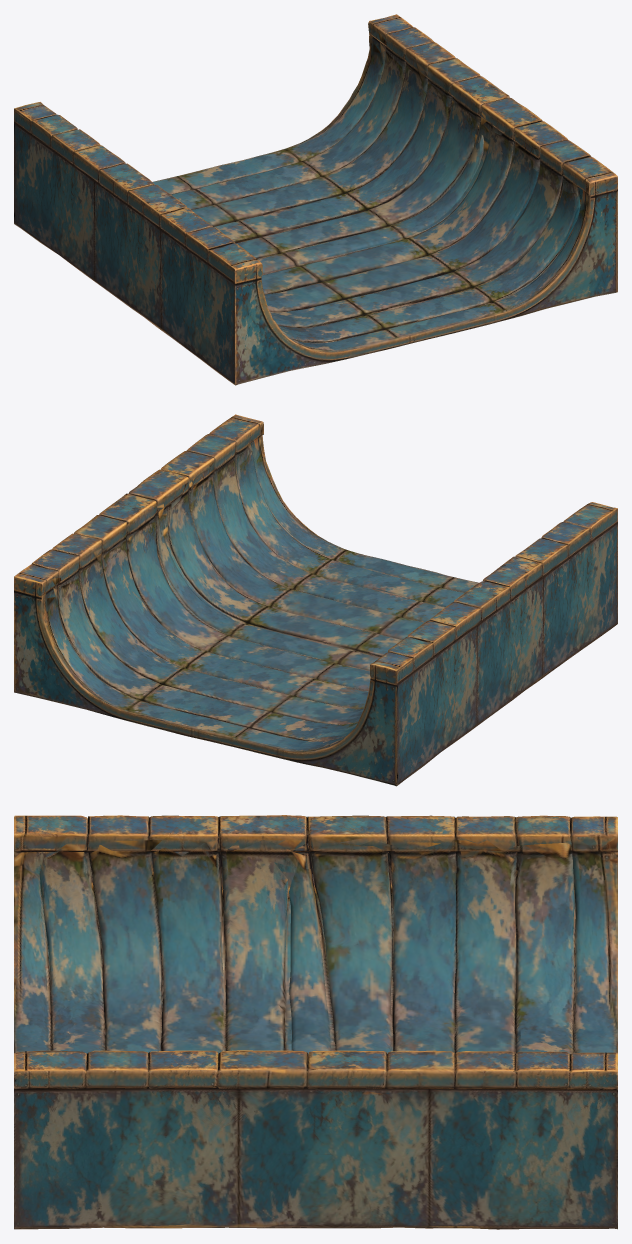
The model's file is aqueduct.glb.
3 views of the same model, one above another, from view 1: azimuth 30°, elevation 25°; view 2: azimuth 150°, elevation 25°; view 3: azimuth 270°, elevation 25° (orthographic). The views are drawn at different scales.
Visible parts, largest first — view 1: aqueduct; view 2: aqueduct; view 3: aqueduct.
Part boxes in pixels (<box>): aqueduct: <box>14,14,617,385</box>; aqueduct: <box>14,414,617,786</box>; aqueduct: <box>14,815,617,1229</box>.
Size of the model in its own units: 1 by 0.2974 by 1.
1 material, 1 textured.
